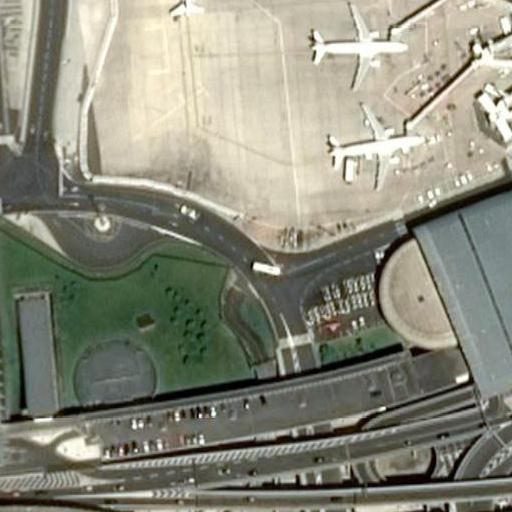Aircraft: (302, 4, 411, 93), (321, 109, 427, 191), (138, 0, 234, 19)
